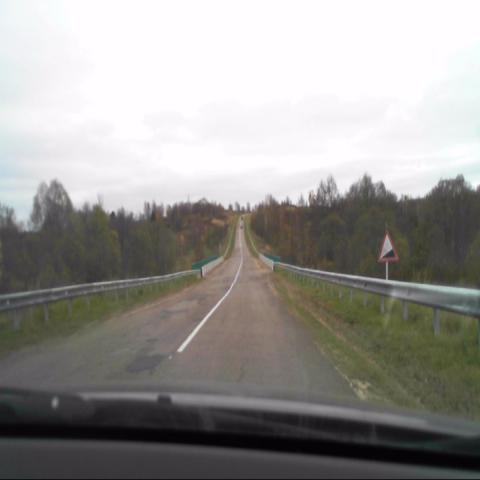1_14: (378, 230, 398, 263)
